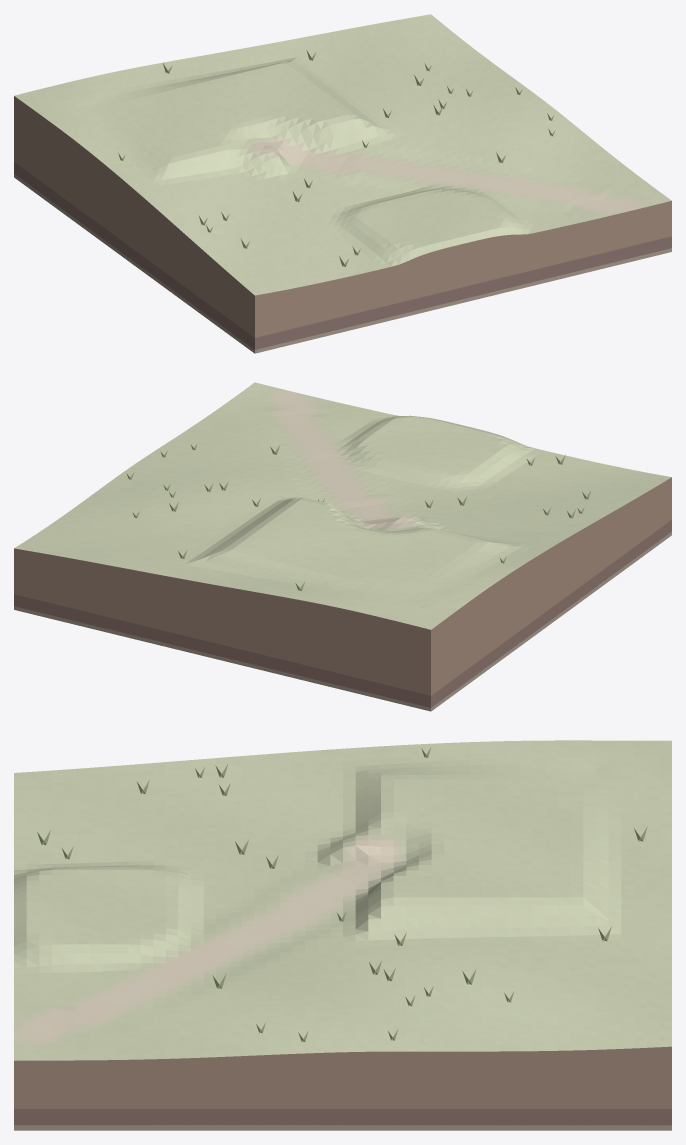
3 views of the same model, one above another, from view 1: azimuth 30°, elevation 25°; view 2: azimuth 150°, elevation 25°; view 3: azimuth 270°, elevation 25° (orthographic). The views are drawn at different scales.
Visible parts, largest first — view 1: proc_ground, proc_skirt, proc_grass; view 2: proc_ground, proc_skirt, proc_grass; view 3: proc_ground, proc_skirt, proc_grass.
Part boxes in pixels (x1,y1,x2,y2): proc_ground: (14,14,671,295); proc_skirt: (14,96,671,353); proc_grass: (118,50,555,266); proc_ground: (14,382,671,629); proc_skirt: (14,477,671,711); proc_grass: (126,443,590,590); proc_ground: (14,740,671,1060); proc_skirt: (14,1046,671,1130); proc_grass: (37,747,647,1041).
Size of the model in its own units: 8 by 1.6 by 8.
